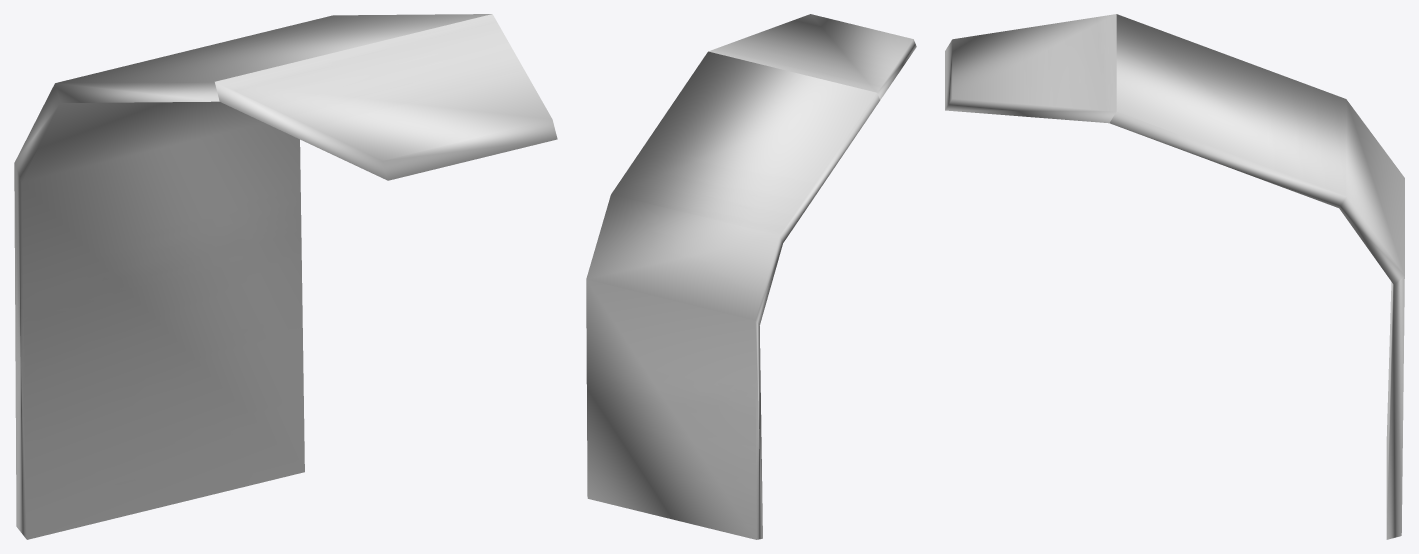
Rendered from dispenserHandle.gltf.
3 views of the same model, side by side, from view 1: azimuth 30°, elevation 25°; view 2: azimuth 150°, elevation 25°; view 3: azimuth 270°, elevation 25° (orthographic). The views are drawn at different scales.
Visible parts, largest first — view 1: Hander; view 2: Hander; view 3: Hander.
Part boxes in pixels (left/top/right/bottom): Hander: left=14, top=14, right=557, bottom=539; Hander: left=586, top=14, right=916, bottom=539; Hander: left=945, top=14, right=1404, bottom=539.
Bounding box in the file's own units: 0.3287 × 0.673 × 0.6546.
Materials: 1 (1 with a texture image).
